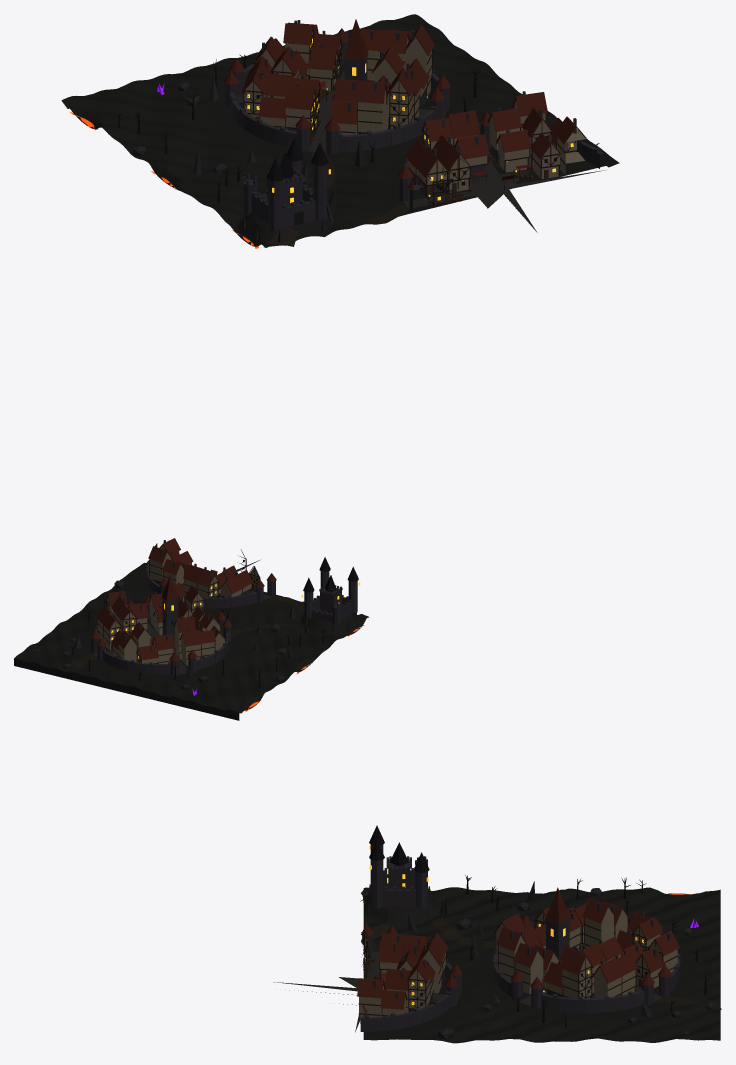
The model's file is chunk-4-3.glb.
The picture shows the model from 3 angles, top to bottom: view 1: azimuth 30°, elevation 25°; view 2: azimuth 150°, elevation 25°; view 3: azimuth 270°, elevation 25°; orthographic projection. The views are drawn at different scales.
Visible parts, largest first — view 1: Ash_Ground, Roof_Tile, Castle_Stone, Plaster, Timber, Cobblestone, Dark_Rock, Dirt_Road, Roof_Slate, Old_Wood, Dead_Wood; view 2: Ash_Ground, Roof_Tile, Castle_Stone, Plaster, Cliff_Rock, Dark_Rock, Timber, Dirt_Road, Roof_Slate, Dead_Wood, Cobblestone; view 3: Ash_Ground, Roof_Tile, Castle_Stone, Plaster, Dark_Rock, Timber, Dirt_Road, Cobblestone, Roof_Slate, Dead_Wood.
Part boxes in pixels (bbox=[...]): Ash_Ground: bbox=[61, 14, 619, 247]; Roof_Tile: bbox=[223, 19, 587, 190]; Castle_Stone: bbox=[225, 20, 603, 231]; Plaster: bbox=[244, 31, 585, 192]; Timber: bbox=[243, 33, 586, 206]; Cobblestone: bbox=[238, 69, 605, 232]; Dark_Rock: bbox=[131, 29, 480, 243]; Dirt_Road: bbox=[264, 33, 409, 247]; Roof_Slate: bbox=[267, 137, 328, 181]; Old_Wood: bbox=[255, 72, 572, 205]; Dead_Wood: bbox=[117, 32, 480, 202]; Ash_Ground: bbox=[14, 562, 368, 713]; Roof_Tile: bbox=[90, 538, 276, 661]; Castle_Stone: bbox=[91, 540, 357, 675]; Plaster: bbox=[98, 545, 259, 666]; Cliff_Rock: bbox=[14, 622, 356, 720]; Dark_Rock: bbox=[34, 580, 358, 689]; Timber: bbox=[98, 556, 260, 663]; Dirt_Road: bbox=[61, 596, 368, 670]; Roof_Slate: bbox=[303, 557, 358, 592]; Dead_Wood: bbox=[69, 599, 325, 689]; Cobblestone: bbox=[93, 560, 271, 674]; Ash_Ground: bbox=[363, 887, 720, 1043]; Roof_Tile: bbox=[357, 887, 679, 1013]; Castle_Stone: bbox=[360, 845, 680, 1032]; Plaster: bbox=[359, 907, 677, 1023]; Dark_Rock: bbox=[362, 881, 713, 1039]; Timber: bbox=[358, 913, 677, 1016]; Dirt_Road: bbox=[360, 887, 721, 1009]; Cobblestone: bbox=[273, 951, 660, 1032]; Roof_Slate: bbox=[369, 825, 429, 872]; Dead_Wood: bbox=[441, 875, 712, 1028].
Bounding box in the file's own units: 160 × 24.4 × 159.
